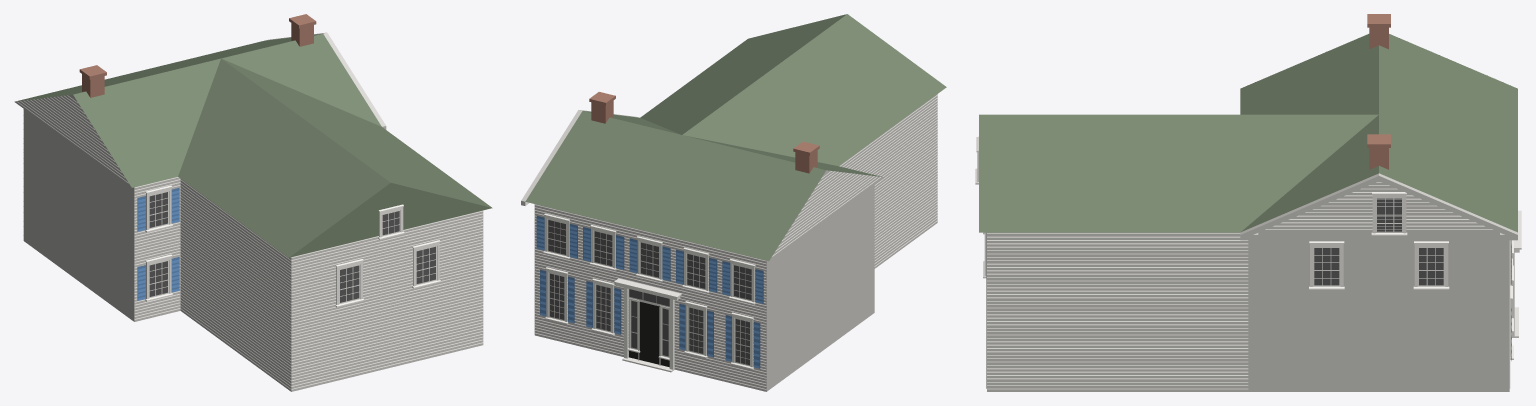
File: sauganash_hotel__frame_1831.glb
The picture shows the model from 3 angles, left to right: view 1: azimuth 30°, elevation 25°; view 2: azimuth 150°, elevation 25°; view 3: azimuth 270°, elevation 25°; orthographic projection. The views are drawn at different scales.
Parts seen in each view (by area): view 1: sauganash_hotel__frame_1831; view 2: sauganash_hotel__frame_1831; view 3: sauganash_hotel__frame_1831.
Boxes of the visible parts, x1,y1,x2,y2 form: sauganash_hotel__frame_1831: (14, 14, 492, 391); sauganash_hotel__frame_1831: (521, 14, 946, 391); sauganash_hotel__frame_1831: (975, 14, 1521, 391).
Size of the model in its own units: 10.62 by 8.25 by 16.71.
